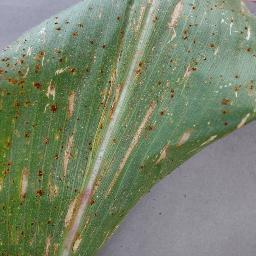Gray_Leaf_Spot: (9, 44, 46, 80), (119, 86, 137, 150), (138, 82, 156, 136), (92, 72, 122, 102), (156, 130, 175, 170), (154, 83, 174, 120), (140, 140, 154, 191), (17, 158, 29, 215), (45, 165, 61, 205), (196, 122, 219, 149), (10, 87, 38, 109), (63, 191, 78, 230), (165, 0, 185, 29), (0, 99, 19, 128), (0, 39, 15, 75), (68, 229, 87, 256), (176, 119, 193, 149), (15, 123, 35, 148), (89, 104, 107, 131), (64, 80, 75, 124), (57, 176, 79, 198), (53, 58, 78, 76), (15, 223, 32, 247), (203, 0, 232, 14), (6, 69, 25, 89), (134, 55, 147, 83), (132, 13, 144, 43), (235, 0, 253, 20), (45, 70, 57, 100), (32, 76, 47, 99), (111, 157, 122, 188), (52, 45, 69, 65), (166, 78, 178, 106), (120, 143, 134, 167), (0, 154, 12, 182), (19, 111, 36, 130), (90, 175, 99, 210), (0, 125, 10, 156), (0, 234, 14, 256), (10, 191, 19, 225), (77, 145, 98, 159), (47, 93, 59, 117), (35, 171, 45, 199), (0, 189, 7, 228), (128, 2, 146, 17), (110, 45, 123, 65), (28, 214, 41, 234), (88, 132, 104, 148), (118, 25, 128, 50), (111, 200, 121, 225), (55, 142, 65, 167), (38, 19, 47, 46), (52, 14, 65, 32), (185, 64, 194, 90), (100, 153, 109, 179), (166, 27, 178, 46), (45, 237, 57, 256), (188, 54, 198, 76), (105, 69, 125, 80), (64, 149, 72, 176), (235, 112, 249, 127), (232, 78, 242, 99), (39, 130, 50, 149), (65, 126, 73, 151), (80, 187, 87, 215), (0, 87, 13, 101), (145, 41, 157, 56), (51, 124, 66, 136), (46, 212, 55, 232), (107, 99, 115, 121), (80, 63, 88, 85), (39, 154, 46, 177), (107, 180, 115, 200), (243, 46, 255, 59), (186, 16, 198, 29), (159, 66, 173, 77), (86, 35, 97, 49), (83, 214, 90, 236), (182, 27, 189, 48), (239, 19, 247, 37), (210, 36, 218, 54), (133, 46, 145, 58), (179, 96, 192, 107), (220, 95, 234, 105), (69, 114, 83, 124), (168, 55, 176, 72), (247, 79, 256, 94), (206, 74, 215, 89), (112, 134, 117, 161), (72, 24, 79, 41), (21, 31, 28, 48), (78, 22, 88, 33), (110, 230, 120, 241), (97, 2, 103, 20), (232, 71, 241, 83), (93, 207, 101, 220), (86, 62, 92, 79), (222, 103, 229, 117), (220, 122, 232, 130), (151, 12, 160, 22), (231, 11, 236, 29), (207, 26, 217, 35), (100, 41, 109, 51), (86, 2, 94, 13), (221, 79, 229, 90), (119, 209, 130, 216), (189, 0, 195, 12), (220, 72, 228, 81), (205, 119, 214, 127), (184, 46, 191, 56), (98, 63, 104, 74), (154, 80, 162, 88), (90, 56, 99, 63), (193, 37, 199, 47), (81, 165, 87, 175), (201, 55, 206, 65), (116, 13, 120, 25), (219, 15, 223, 26), (148, 0, 154, 7), (250, 106, 256, 113), (82, 101, 89, 107), (55, 202, 58, 214), (66, 20, 70, 28), (236, 48, 242, 53), (90, 118, 92, 124), (216, 67, 217, 68)
